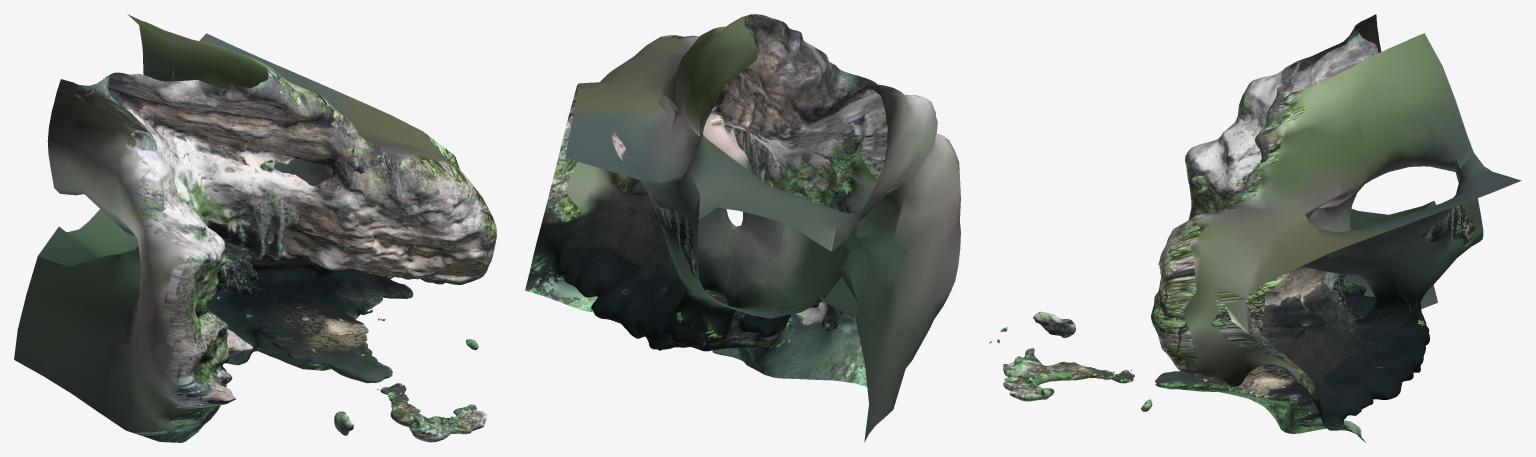
The model's file is cascade.glb.
3 views of the same model, side by side, from view 1: azimuth 30°, elevation 25°; view 2: azimuth 150°, elevation 25°; view 3: azimuth 270°, elevation 25° (orthographic). The views are drawn at different scales.
Visible parts, largest first — view 1: Model; view 2: Model; view 3: Model.
Part boxes in pixels (x1,y1,x2,y2): Model: (14, 14, 496, 442); Model: (525, 14, 960, 442); Model: (989, 14, 1521, 442).
Size of the model in its own units: 5.31 by 5.02 by 6.8.
1 material, 1 textured.
